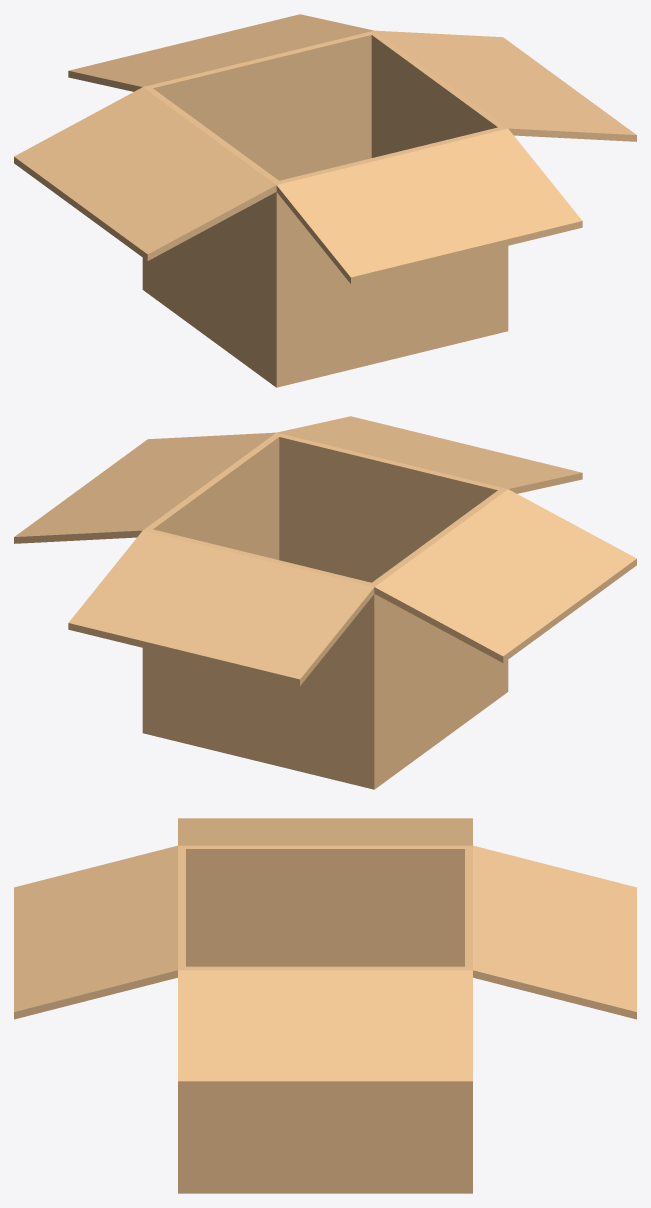
The picture shows the model from 3 angles, top to bottom: view 1: azimuth 30°, elevation 25°; view 2: azimuth 150°, elevation 25°; view 3: azimuth 270°, elevation 25°; orthographic projection. The views are drawn at different scales.
Parts seen in each view (by area): view 1: Box_4; view 2: Box_4; view 3: Box_4.
Part boxes in pixels (<box>): Box_4: <box>14,14,636,387</box>; Box_4: <box>14,416,636,789</box>; Box_4: <box>14,818,636,1193</box>.
Size of the model in its own units: 1.83 by 0.726 by 1.83.
1 material, 1 textured.
